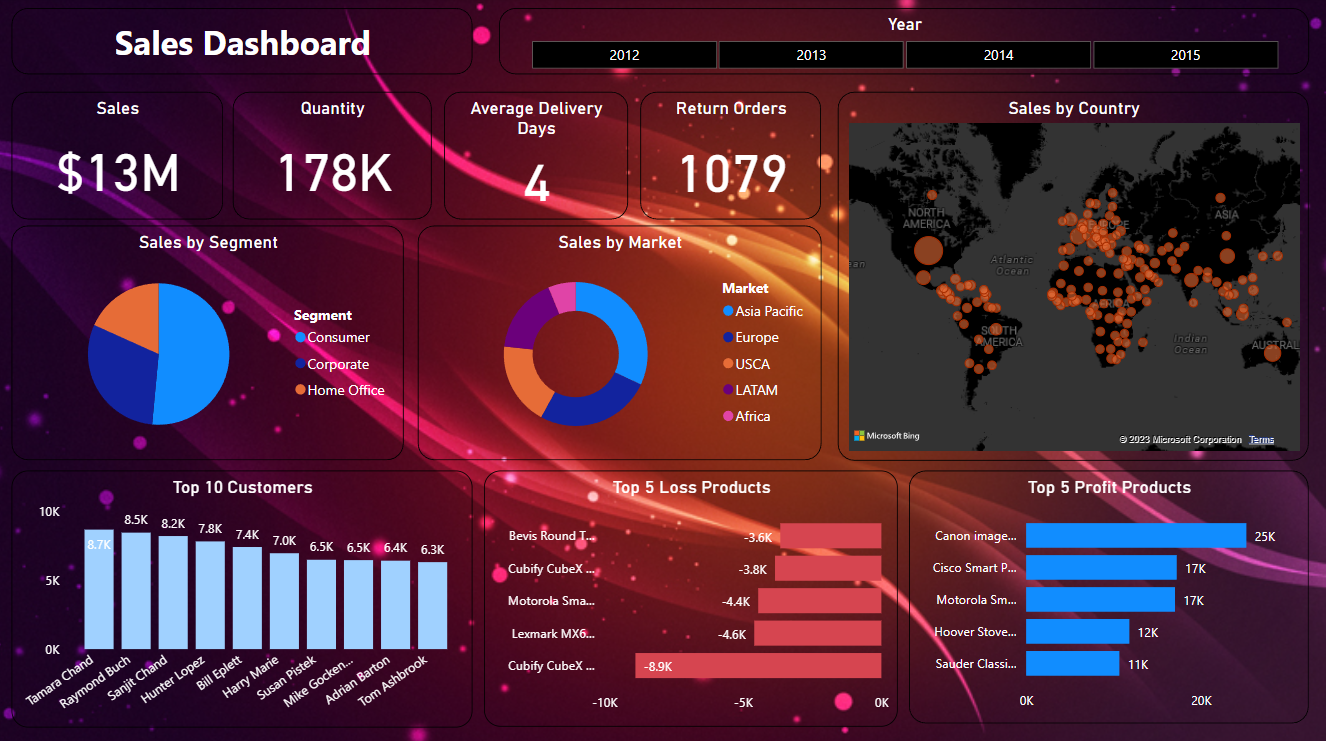

What the dashboard file says about the page in this screenshot:
{"tool":"powerbi","page":{"name":"Page 1","canvas":[1280,720],"ordinal":0},"visuals":[{"type":"card","title":"Sales","fields":{"Values":["Sum(Orders.Sales)"]},"box":[12.1,90.5,203.8,123],"z":0},{"type":"card","title":"Quantity","fields":{"Values":["Sum(Orders.Quantity)"]},"box":[225.5,90.5,191.8,123],"z":1000},{"type":"card","title":"Average Delivery Days","fields":{"Values":["Avg(Orders.Delivery Days)"]},"box":[429.3,90.5,177.3,123],"z":2000},{"type":"slicer","title":"Year","fields":{"Values":["Orders.Year"]},"box":[482.4,9.6,781.5,63.9],"z":3000},{"type":"card","title":"Return Orders","fields":{"Values":["Sum(Returns.Return Orders)"]},"box":[618.9,90.6,174.3,123.5],"z":4000},{"type":"map","title":"Sales by Country","fields":{"Category":["Orders.Country"],"Size":["Sum(Orders.Sales)"]},"box":[809.2,90.5,454.7,355.8],"z":5000},{"type":"barChart","title":"Top 5 Profit Products","fields":{"Y":["Sum(Orders.Profit)"],"Category":["Orders.Product Name"]},"box":[878.2,455.6,385.6,244.3],"z":6000},{"type":"barChart","title":"Top 5 Loss Products","fields":{"Y":["Sum(Orders.Profit)"],"Category":["Orders.Product Name"]},"box":[467.9,455.6,399.3,247],"z":7000},{"type":"pieChart","title":"Sales by Segment","fields":{"Y":["Sum(Orders.Sales)"],"Category":["Orders.Segment"]},"box":[12.3,219.6,378.7,226.4],"z":8000},{"type":"donutChart","title":"Sales by Market","fields":{"Y":["Sum(Orders.Sales)"],"Category":["Orders.Market"]},"box":[403.4,219.6,389.7,226.4],"z":9000},{"type":"columnChart","title":"Top 10 Customers","fields":{"Category":["Orders.Customer Name"],"Y":["Sum(Orders.Profit)"]},"box":[12.3,455.6,444.6,248.4],"z":10000},{"type":"textbox","box":[12.1,9.6,445,63.9],"z":11000}]}

Visuals, with their boxes in screenshot pixels (x1, y1, x2, y2), scaled from the page's 1280x720 canvas onto the 1326x741 screenshot:
"Sales" card: (13, 93, 224, 220)
"Quantity" card: (234, 93, 432, 220)
"Average Delivery Days" card: (445, 93, 628, 220)
"Year" slicer: (500, 10, 1309, 76)
"Return Orders" card: (641, 93, 822, 220)
"Sales by Country" map: (838, 93, 1309, 459)
"Top 5 Profit Products" barChart: (910, 469, 1309, 720)
"Top 5 Loss Products" barChart: (485, 469, 898, 723)
"Sales by Segment" pieChart: (13, 226, 405, 459)
"Sales by Market" donutChart: (418, 226, 822, 459)
"Top 10 Customers" columnChart: (13, 469, 473, 725)
textbox: (13, 10, 474, 76)
